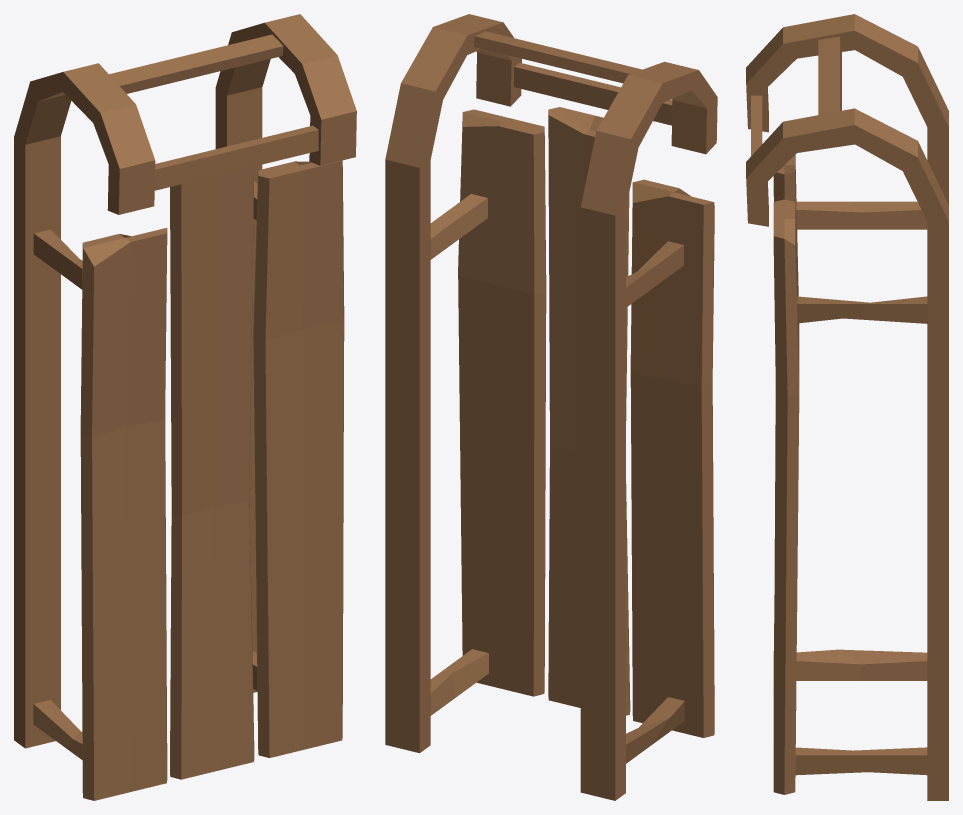
File: Sled_1.fbx
3 renders of one model, left to right at view 1: azimuth 30°, elevation 25°; view 2: azimuth 150°, elevation 25°; view 3: azimuth 270°, elevation 25°, orthographic. The views are drawn at different scales.
Visible parts, largest first — view 1: Sled_mesh; view 2: Sled_mesh; view 3: Sled_mesh.
Boxes of the visible parts, <box> form: Sled_mesh: <box>14,14,356,800</box>; Sled_mesh: <box>385,14,717,800</box>; Sled_mesh: <box>746,14,948,800</box>.
Bounding box in the file's own units: 42.14 × 108 × 29.34.
